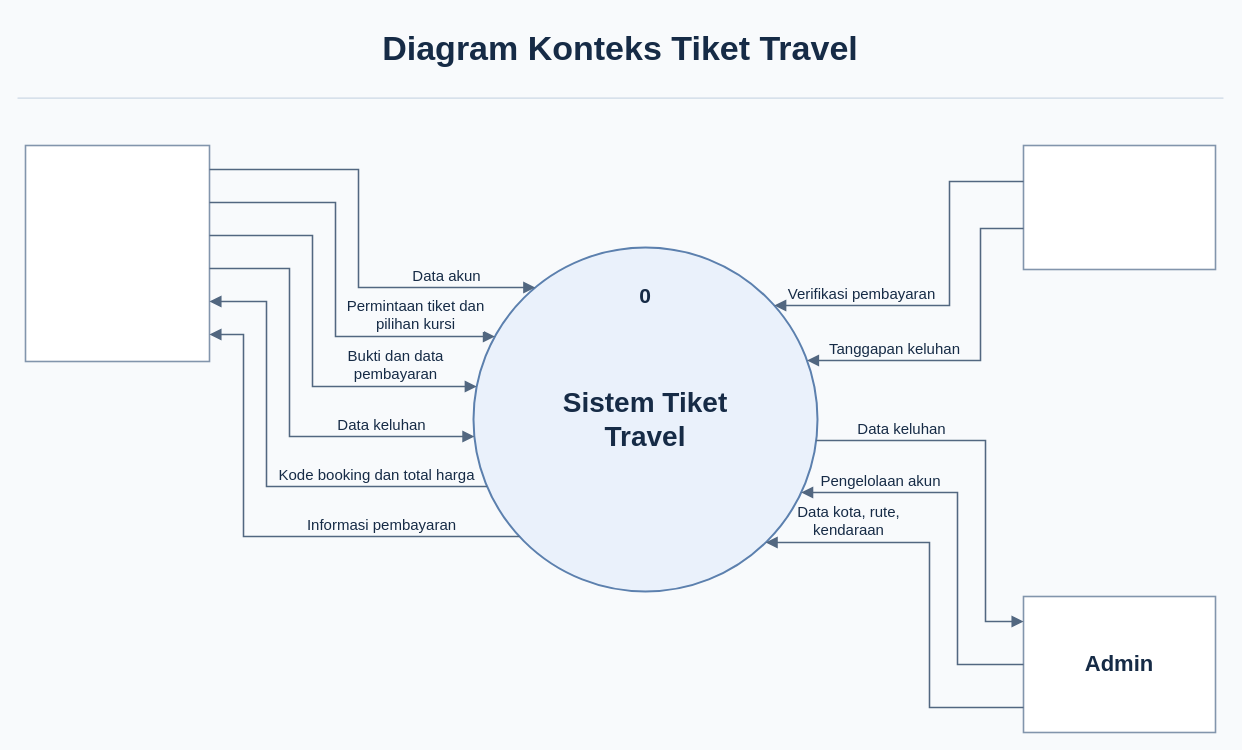
The diagram is 1242 pixels wide and 750 high, and some of its shapes have lost their labels. Here are the shapes that lost their labels. From the top down, the centre of each, then its label:
(1119,207): Operator
(117,253): Member
